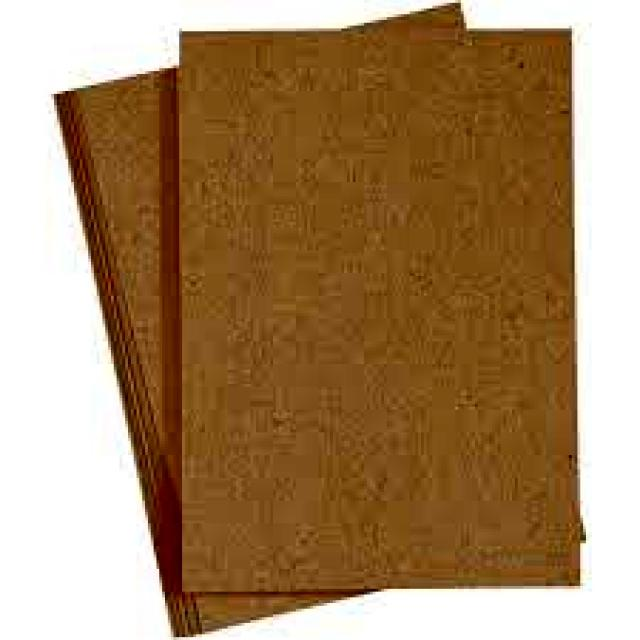Cardboard: (45, 2, 592, 640), (182, 29, 580, 591)
